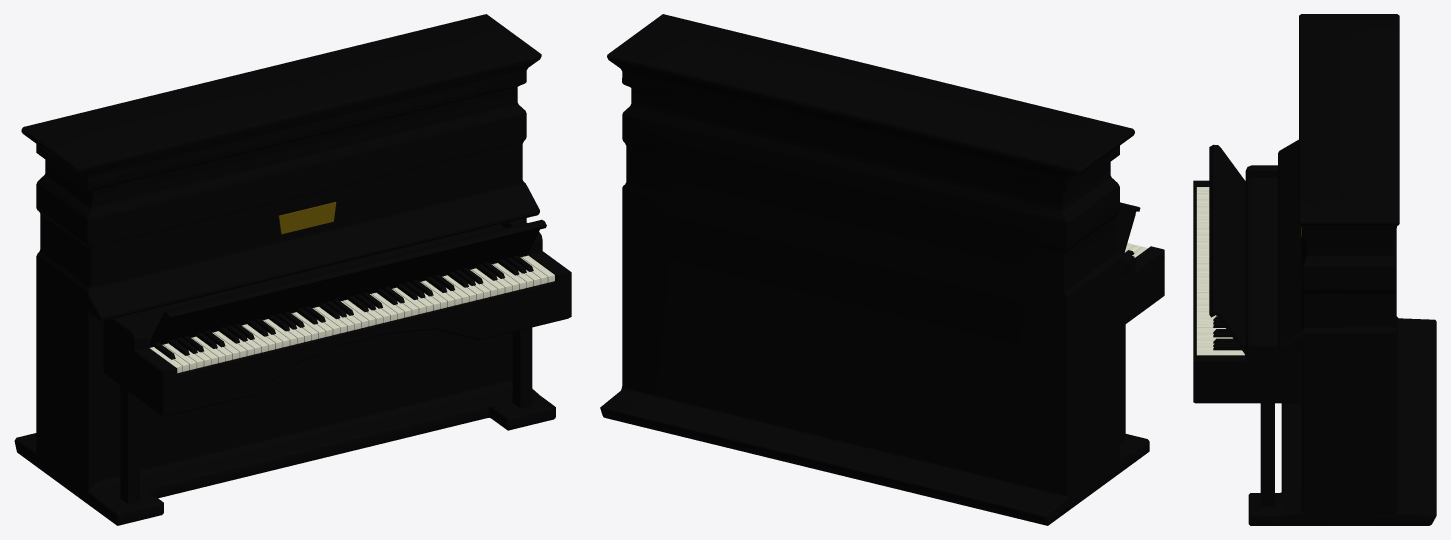
The model's file is FBX_Piano.fbx.
3 renders of one model, left to right at view 1: azimuth 30°, elevation 25°; view 2: azimuth 150°, elevation 25°; view 3: azimuth 270°, elevation 25°, orthographic. The views are drawn at different scales.
Parts seen in each view (by area): view 1: Piano, PianoBase, Couvercle; view 2: Piano, PianoBase, Couvercle; view 3: Piano, PianoBase, Couvercle.
Part boxes in pixels (x1,y1,x2,y2): Piano: (14,14,555,525); PianoBase: (103,219,571,503); Couvercle: (149,219,546,346); Piano: (600,14,1149,525); PianoBase: (1116,246,1164,442); Couvercle: (1115,202,1140,253); Piano: (1248,14,1436,525); PianoBase: (1193,165,1300,506); Couvercle: (1209,144,1246,353).
Size of the model in its own units: 22.02 by 15.46 by 10.93.
